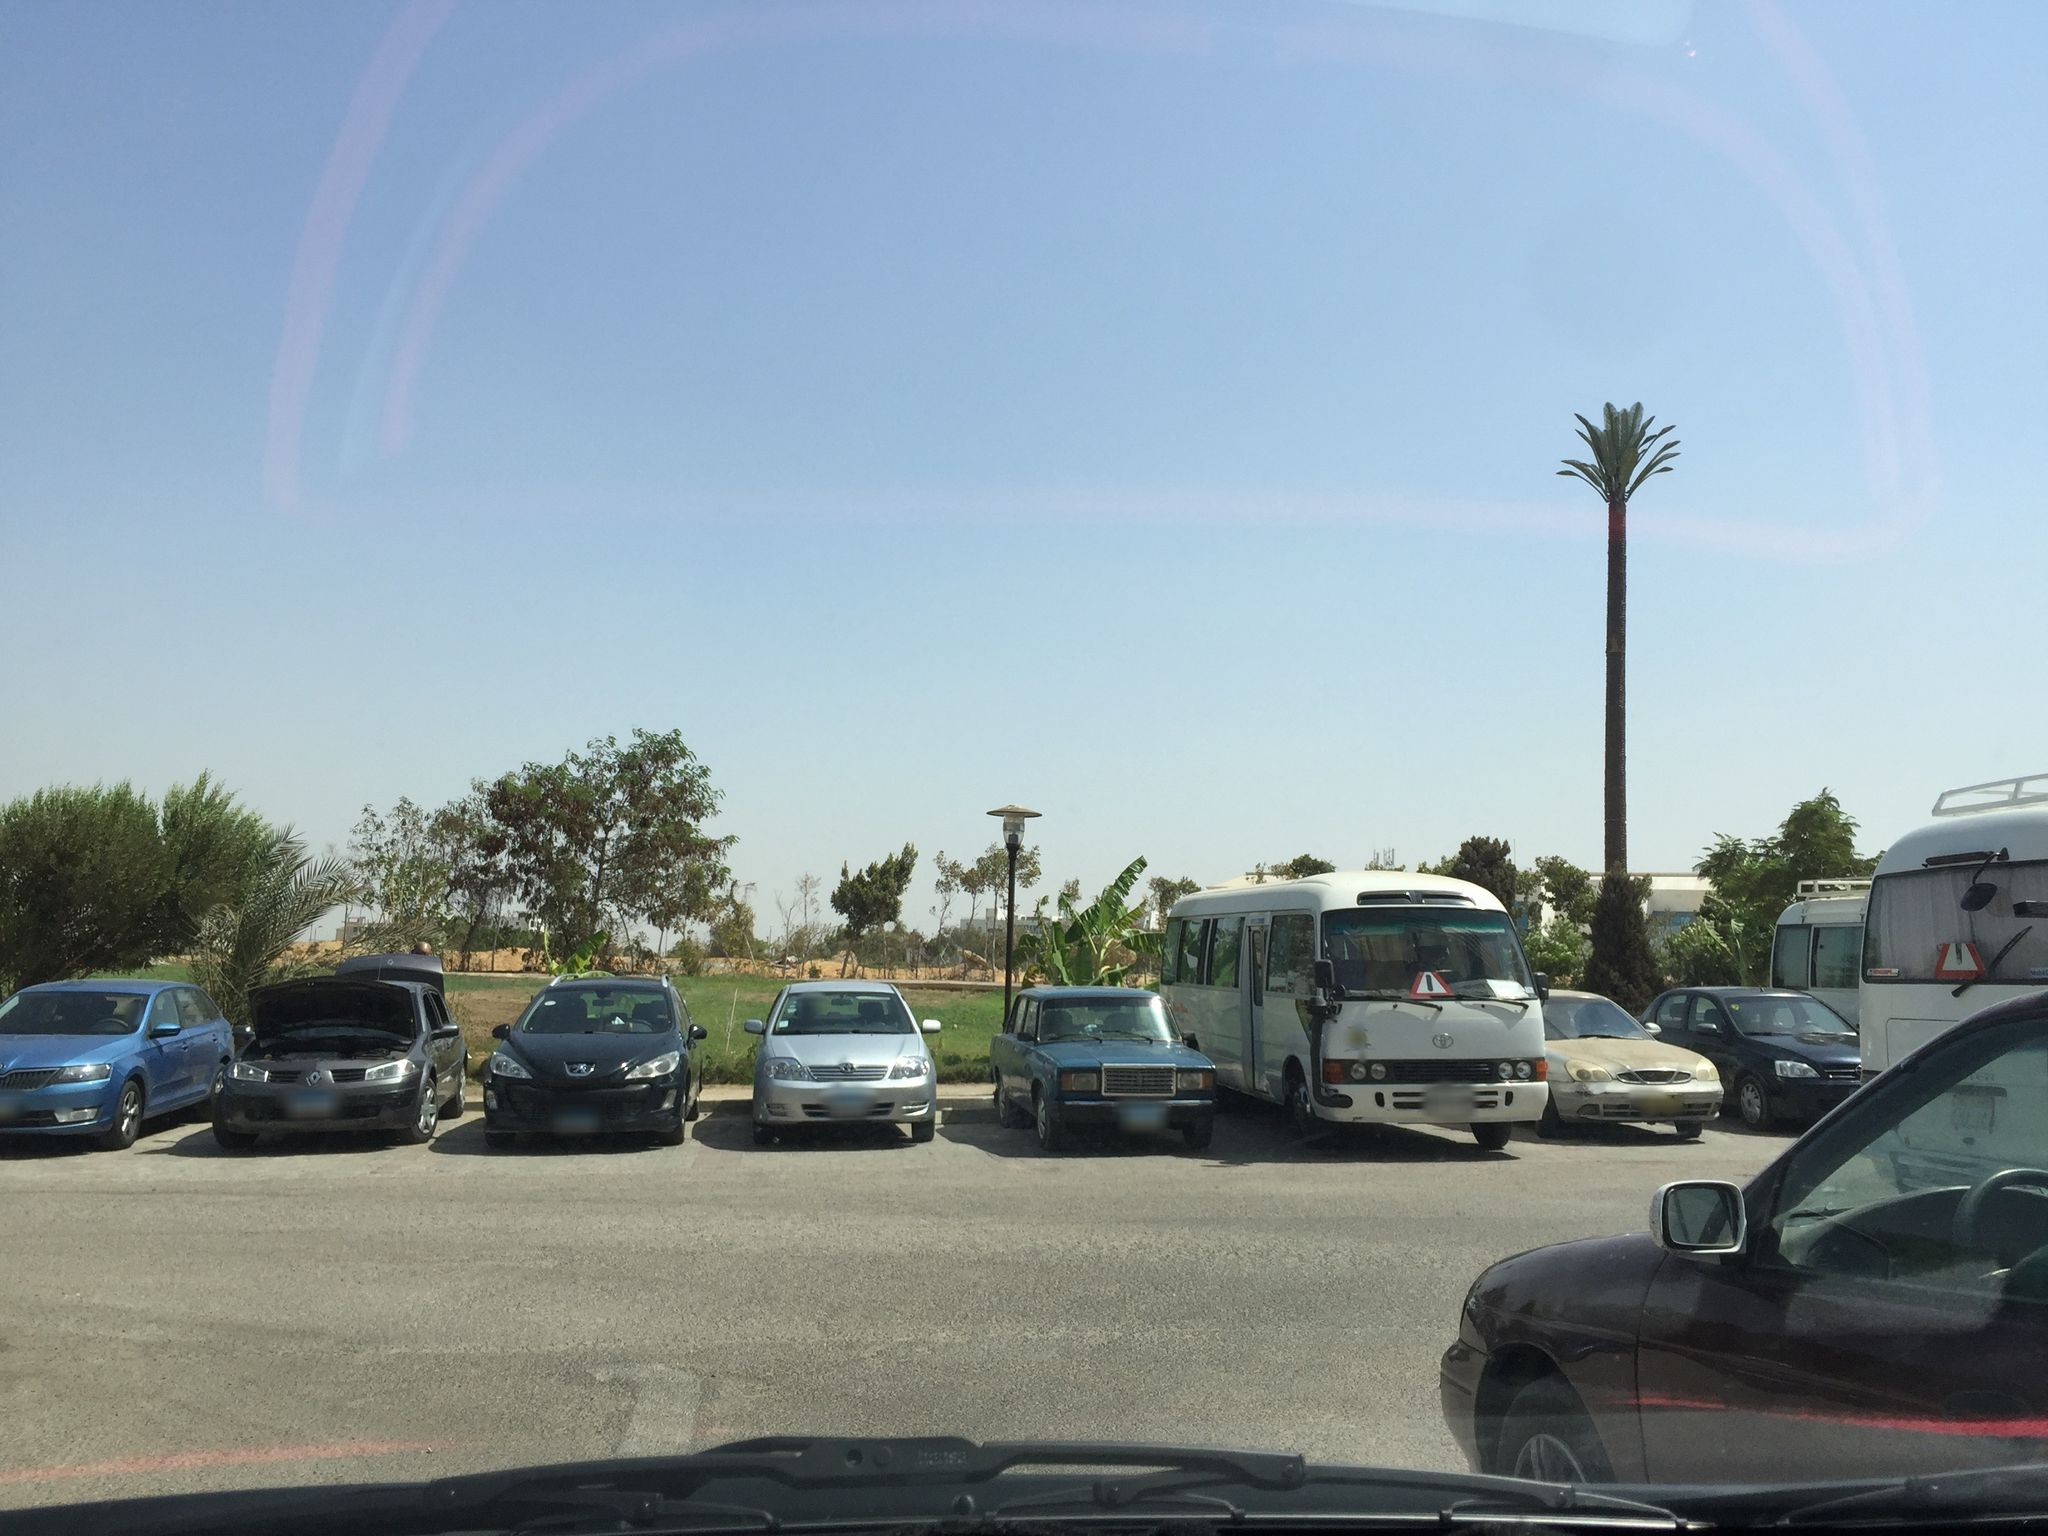bus: (1159, 866, 1550, 1150), (1845, 770, 2048, 1192), (1767, 874, 1896, 1033)
car: (1414, 975, 2048, 1492), (206, 945, 469, 1147), (0, 979, 234, 1149), (477, 973, 706, 1144), (985, 984, 1218, 1149), (1629, 983, 1863, 1133), (742, 978, 942, 1141), (1530, 987, 1725, 1139)
